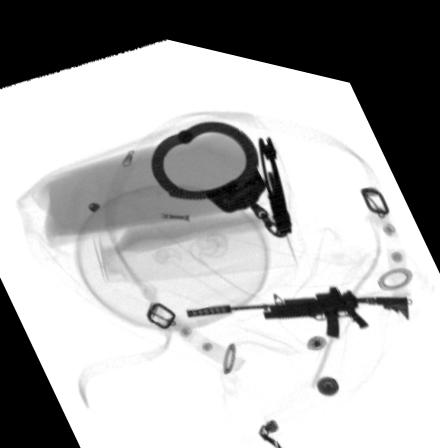Gun: (178, 267, 412, 323)
HandCuffs: (147, 108, 295, 227)
